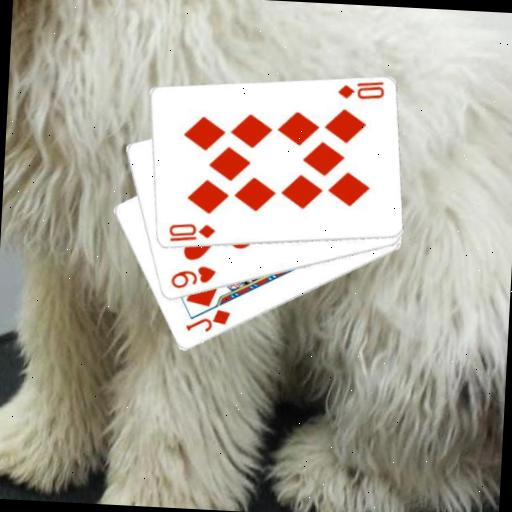10D: (165, 220, 217, 246), (335, 77, 387, 103)
9H: (167, 261, 218, 292)
JD: (183, 304, 233, 335)
